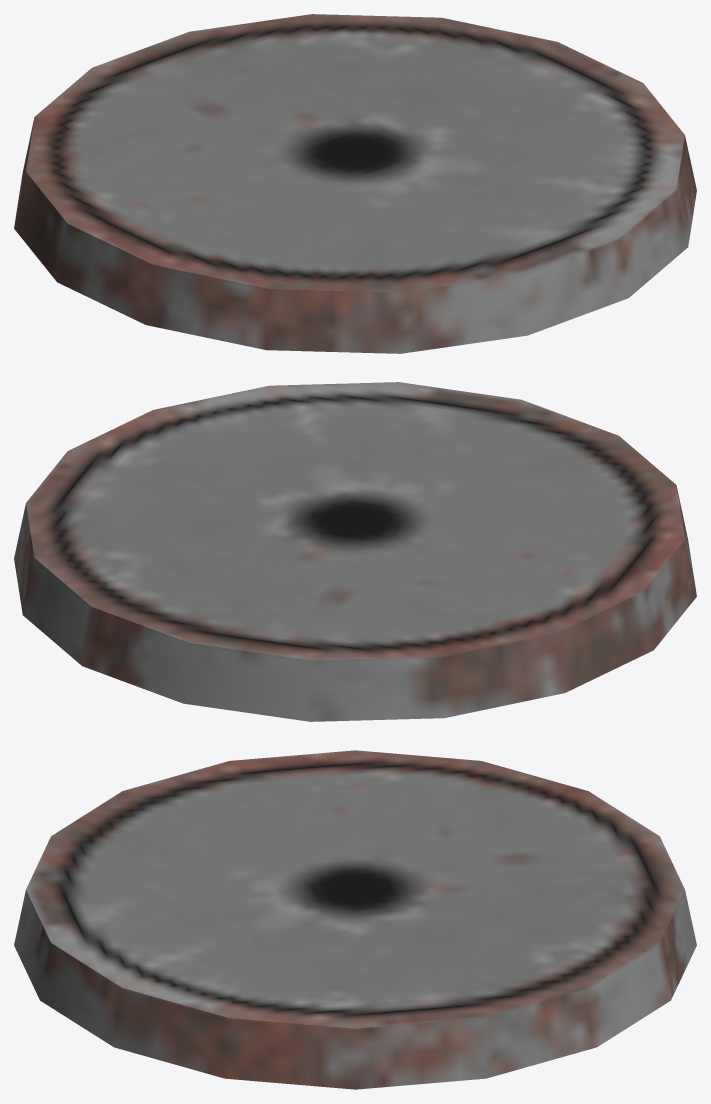
Rendered from MB_Sewer_Hatch_04.fbx.
3 views of the same model, one above another, from view 1: azimuth 30°, elevation 25°; view 2: azimuth 150°, elevation 25°; view 3: azimuth 270°, elevation 25° (orthographic).
Visible parts, largest first — view 1: MB_Sewer_Hatch_04; view 2: MB_Sewer_Hatch_04; view 3: MB_Sewer_Hatch_04.
Part boxes in pixels (x1,y1,x2,y2): MB_Sewer_Hatch_04: (14,14,696,353); MB_Sewer_Hatch_04: (14,382,696,721); MB_Sewer_Hatch_04: (14,750,696,1089).
Size of the model in its own units: 12.29 by 1.11 by 12.29.
